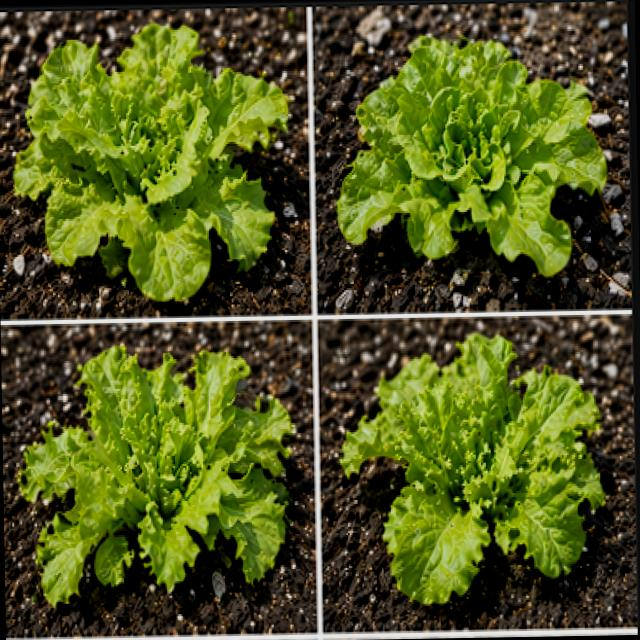inmadura: (16, 23, 287, 299), (341, 333, 604, 603), (19, 345, 291, 603), (339, 35, 606, 272)
